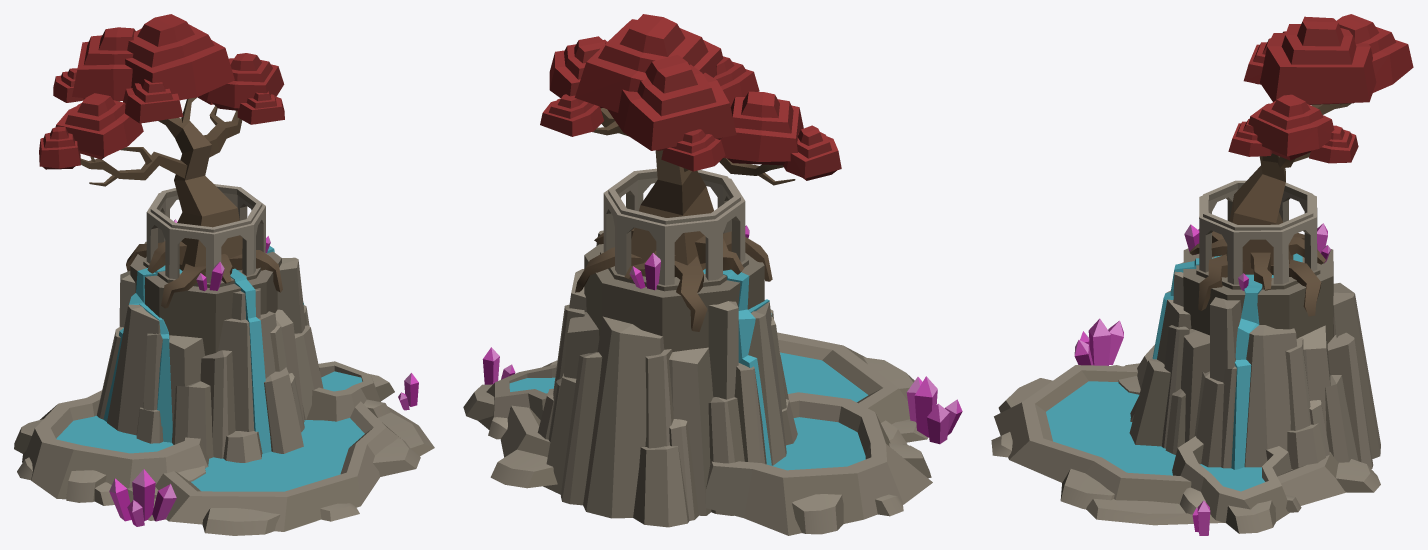
Rendered from SF_Bld_Elven_Lifetree_02.fbx.
3 views of the same model, side by side, from view 1: azimuth 30°, elevation 25°; view 2: azimuth 150°, elevation 25°; view 3: azimuth 270°, elevation 25° (orthographic). The views are drawn at different scales.
Visible parts, largest first — view 1: SF_Bld_Elven_Lifetree_02; view 2: SF_Bld_Elven_Lifetree_02; view 3: SF_Bld_Elven_Lifetree_02.
Part boxes in pixels (x1,y1,x2,y2): SF_Bld_Elven_Lifetree_02: (14, 14, 434, 535); SF_Bld_Elven_Lifetree_02: (463, 14, 962, 535); SF_Bld_Elven_Lifetree_02: (991, 14, 1413, 535).
Bounding box in the file's own units: 25.21 × 25.65 × 23.25.
